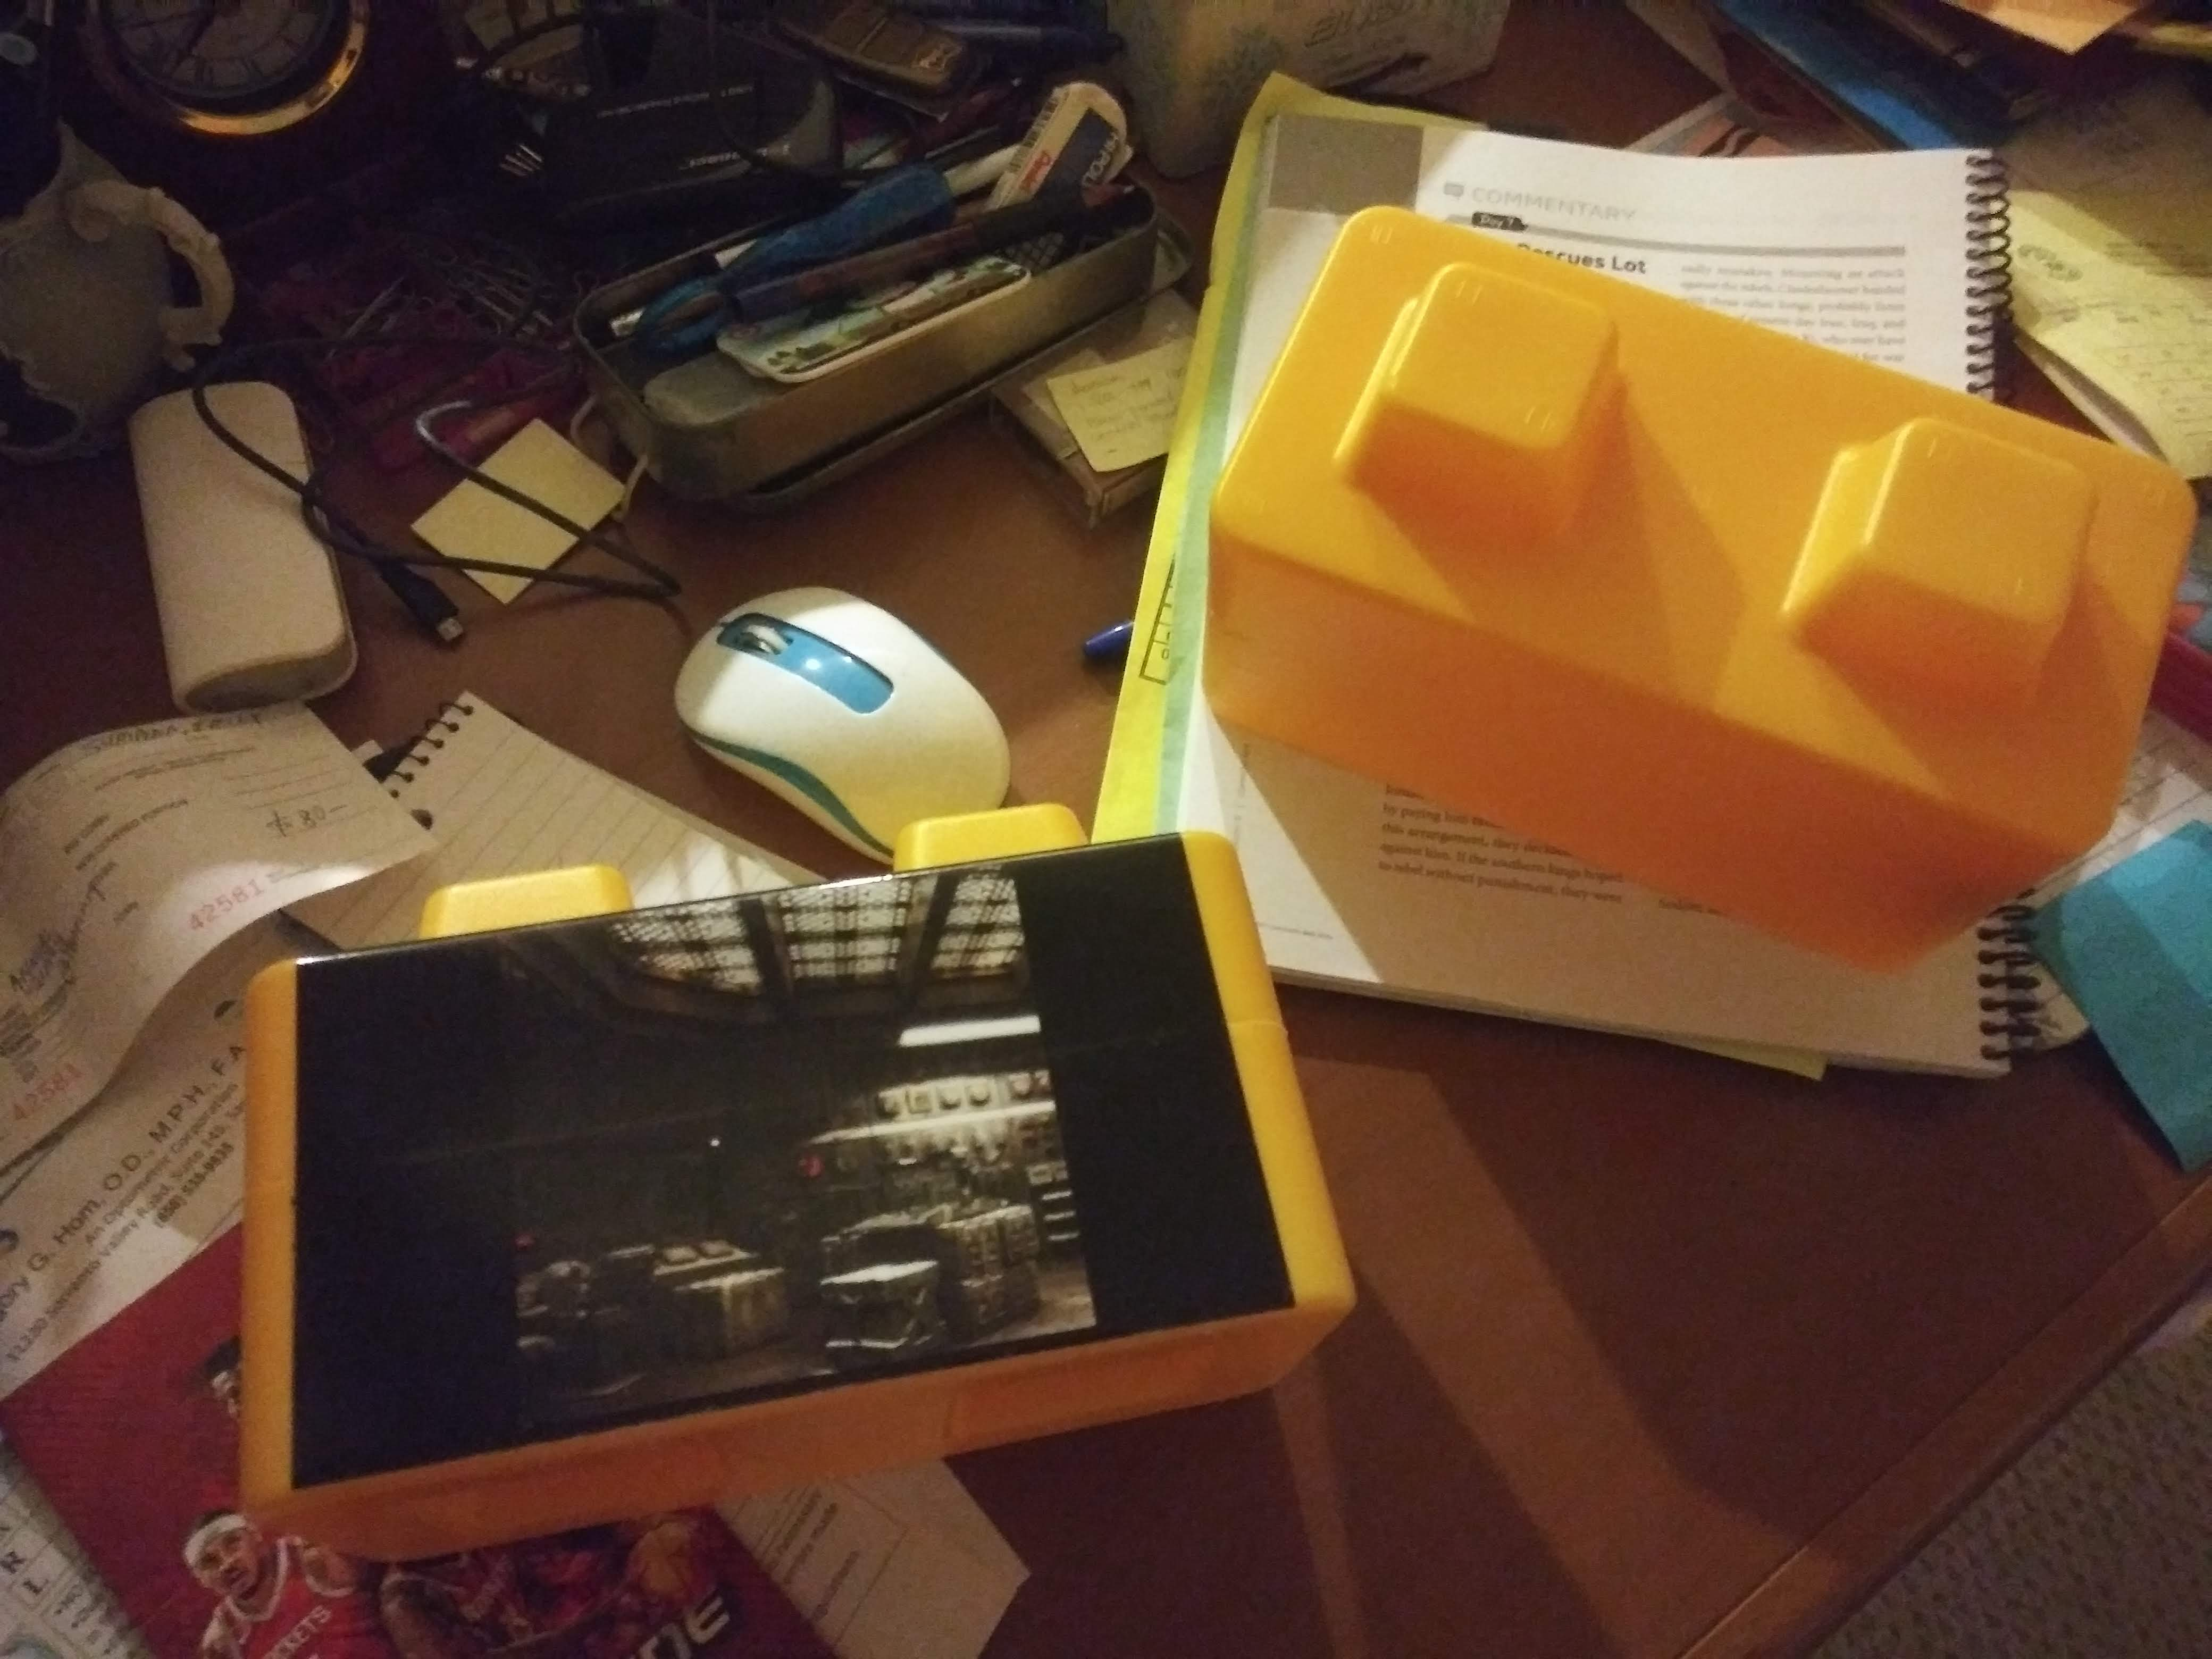skystone: (279, 901, 1322, 1459)
stone: (1231, 246, 2149, 877)
